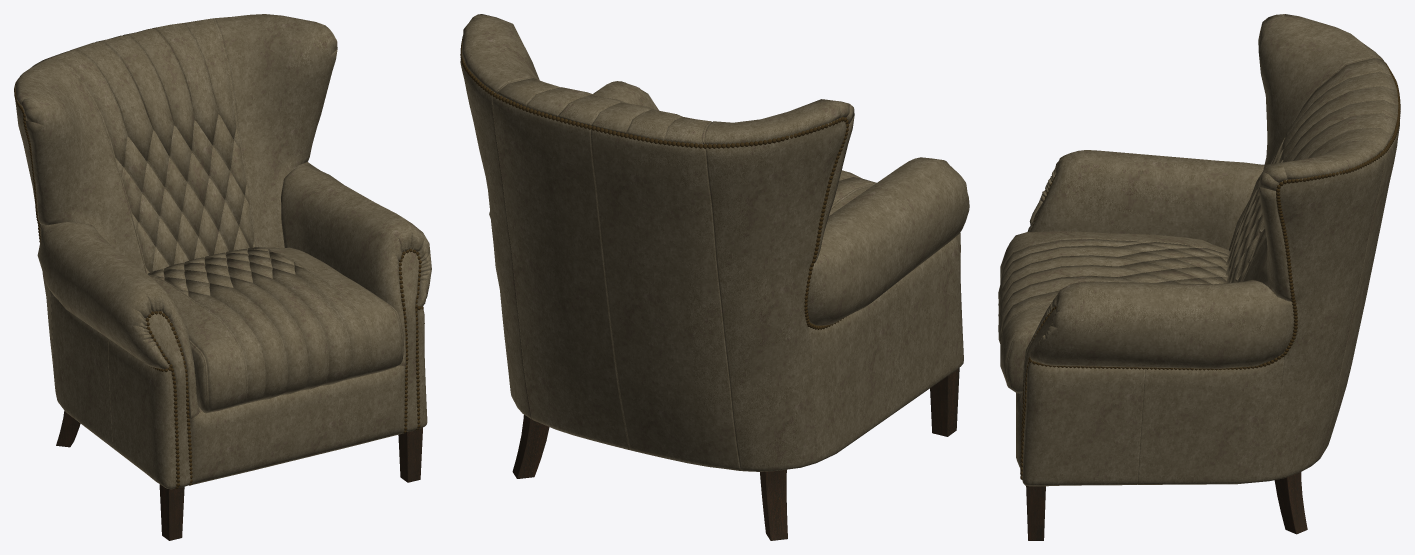
The model's file is Lork.glb.
3 renders of one model, left to right at view 1: azimuth 30°, elevation 25°; view 2: azimuth 150°, elevation 25°; view 3: azimuth 270°, elevation 25°, orthographic. The views are drawn at different scales.
Visible parts, largest first — view 1: Lork; view 2: Lork; view 3: Lork.
Boxes of the visible parts, <box> form: Lork: <box>14,14,431,540</box>; Lork: <box>460,14,969,540</box>; Lork: <box>998,14,1400,540</box>.
Bounding box in the file's own units: 0.7495 × 0.8351 × 0.792.
Materials: 3 (3 with a texture image).
